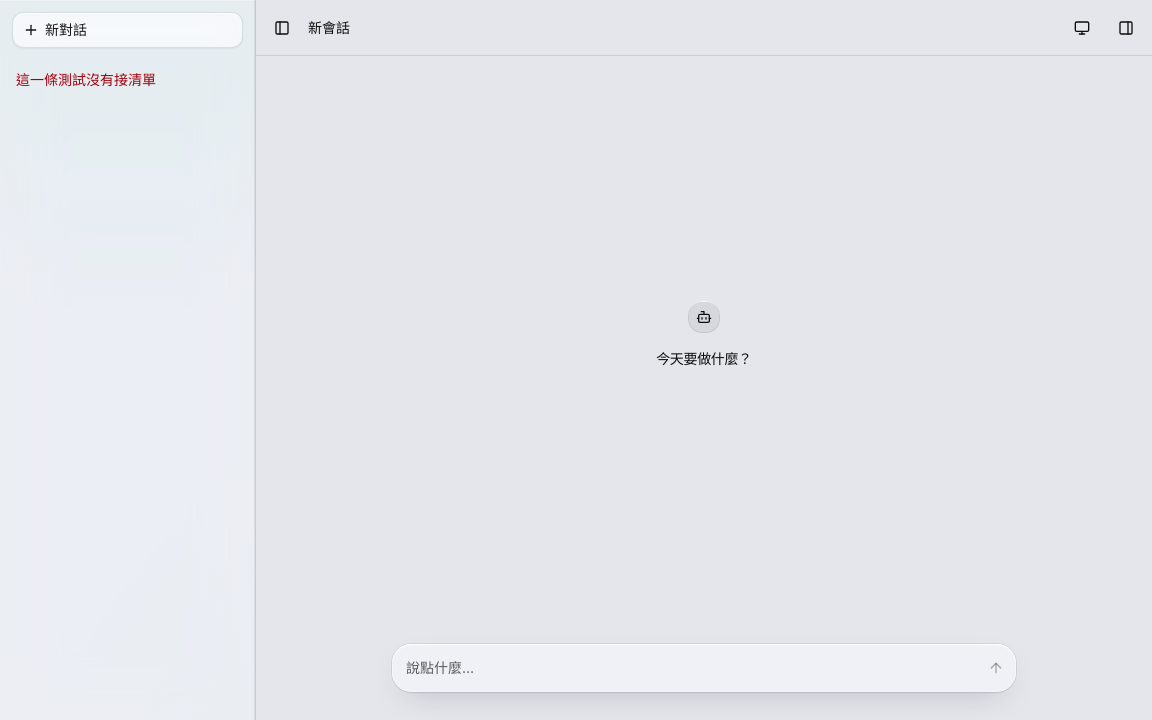
Test case: @子代理 提及（#328） › server 對 mention 回 not_supported：說的是子代理不是附件，草稿與標記都留著
Type "@" into the text box named "要說的話". click: (691, 668)
box: [406,652,976,684]
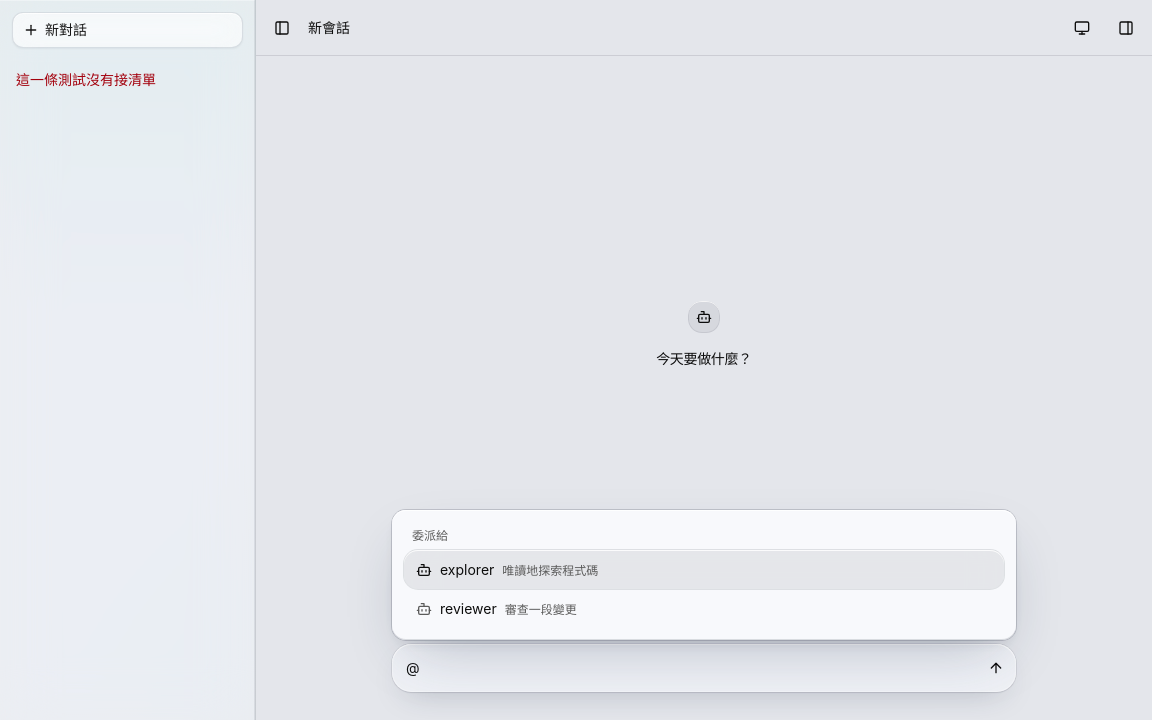
Expected: the dialog named "@ 選單" is shown, [392,510,1016,640]
Press Enter in the text box named "要說的話", box [406,652,976,684]
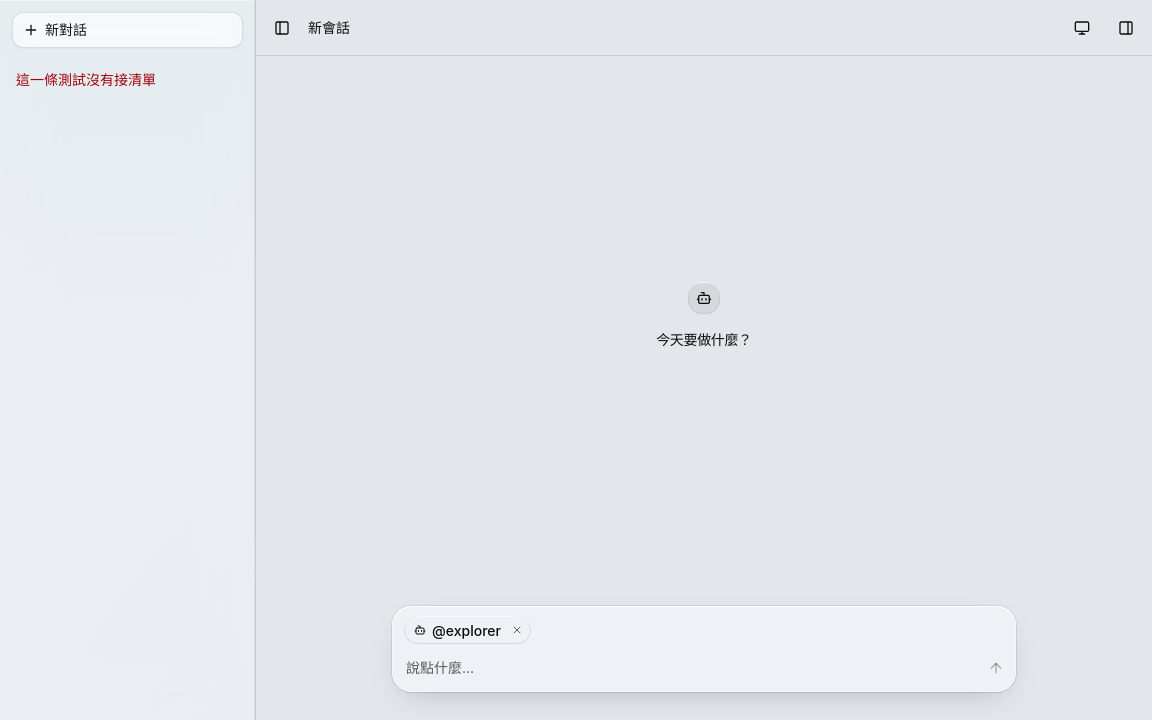
Type "乙" into the text box named "要說的話". click: (691, 668)
box: [406,652,976,684]
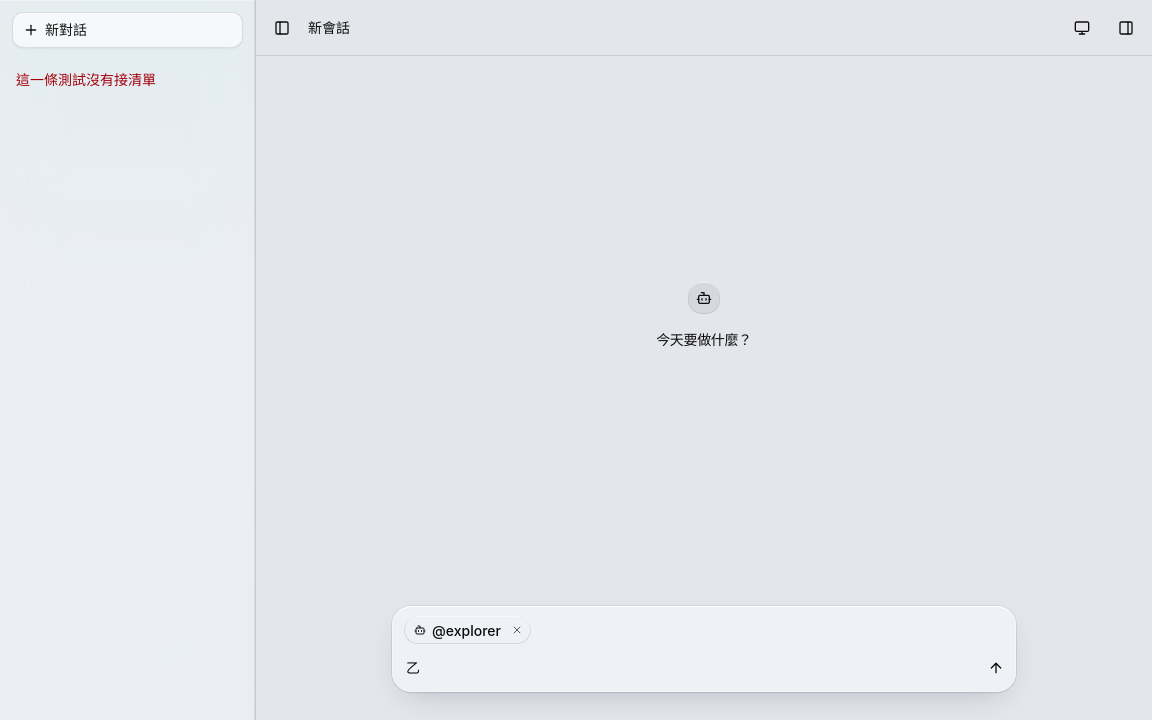
Click the button named "送出". click: (996, 668)
box: [980,652,1012,684]
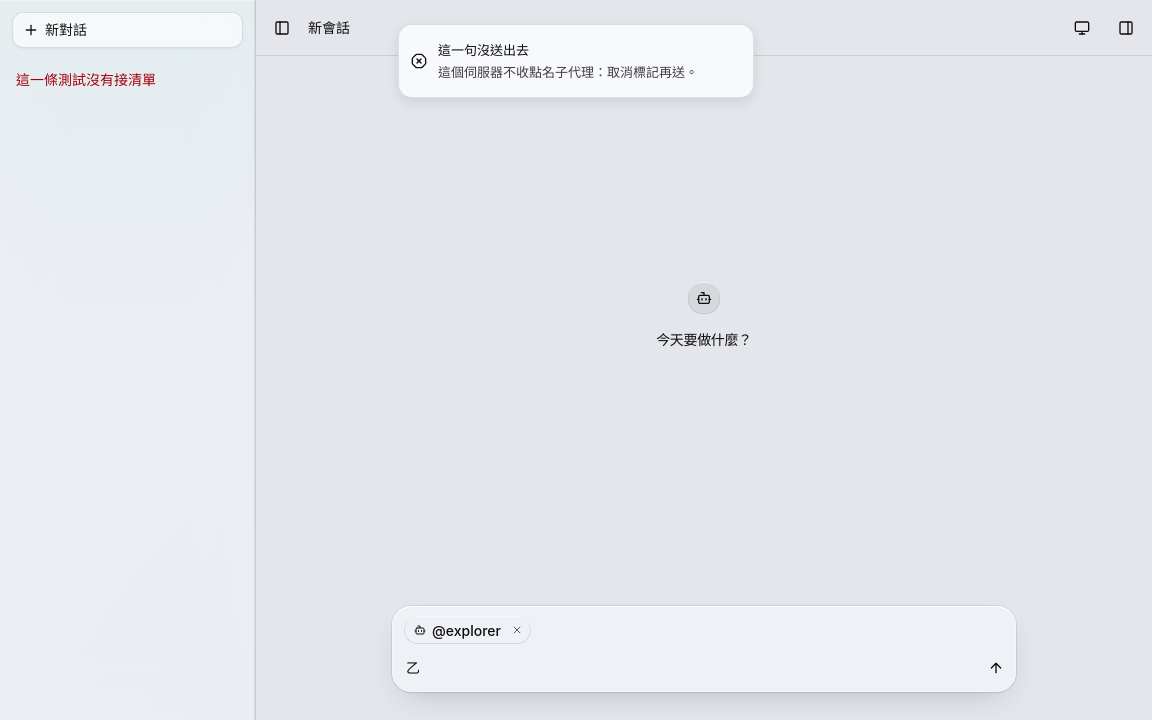
Expected: the element with test id "agent-mention-chip" reads "@explorer", [404,616,531,644]
Expected: the text "這個伺服器不收點名子代理：取消標記再送。" is shown, [438,62,698,81]
